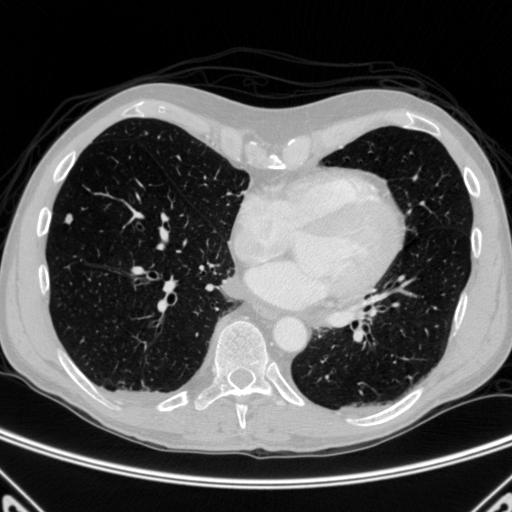nodule: (63, 212, 76, 225)
